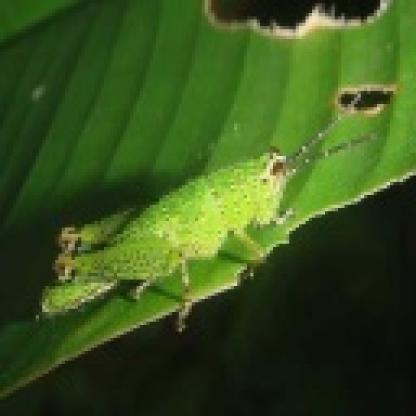grasshopper: (41, 112, 356, 326)
